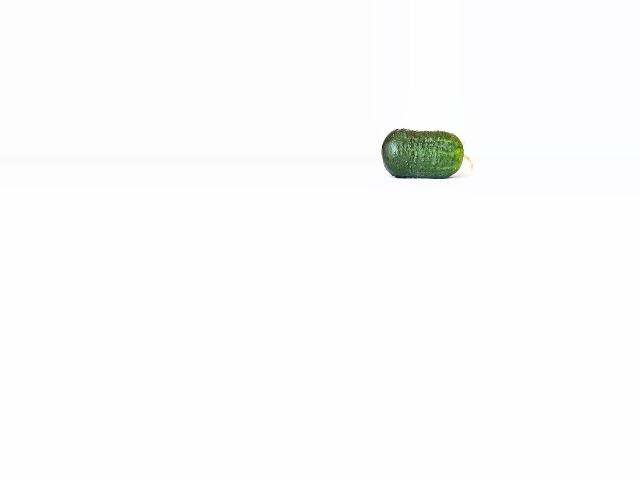cucumber: (382, 128, 473, 179)
